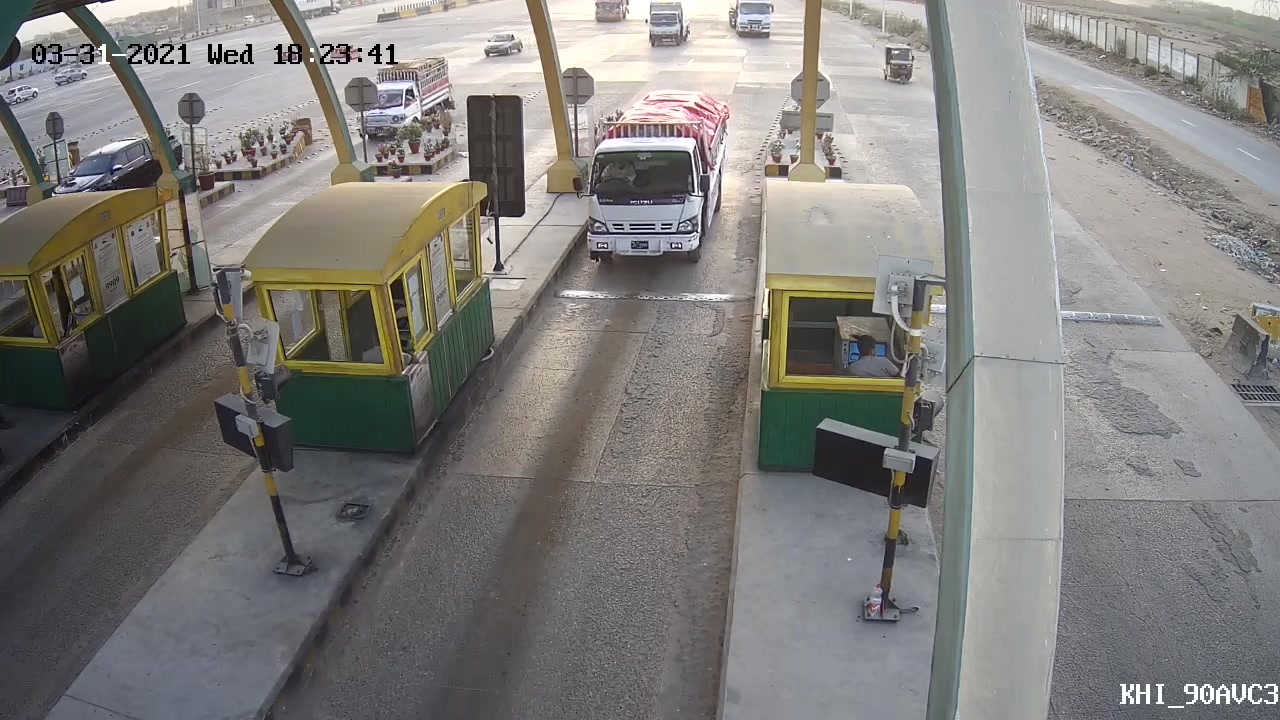F5: (569, 86, 733, 264)
